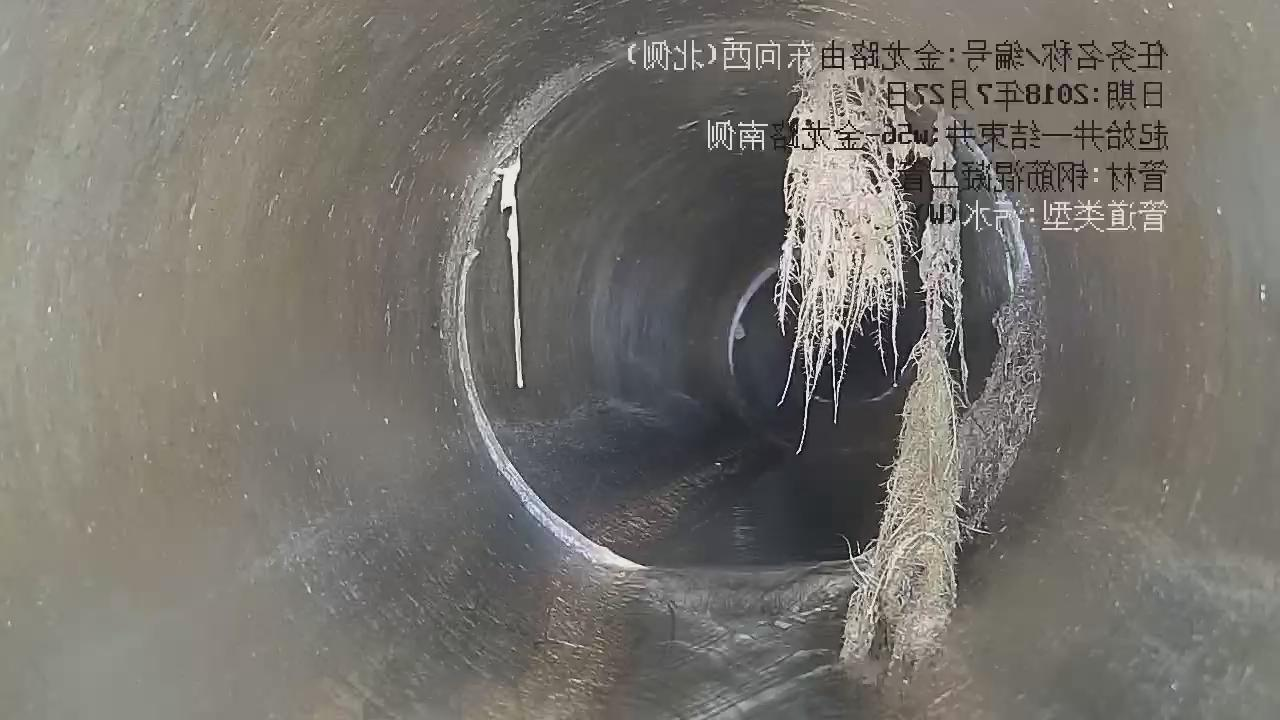CKTJ: (446, 179, 648, 571), (728, 266, 778, 376)
JKCL: (494, 147, 525, 387)
SG: (775, 41, 1044, 666)
